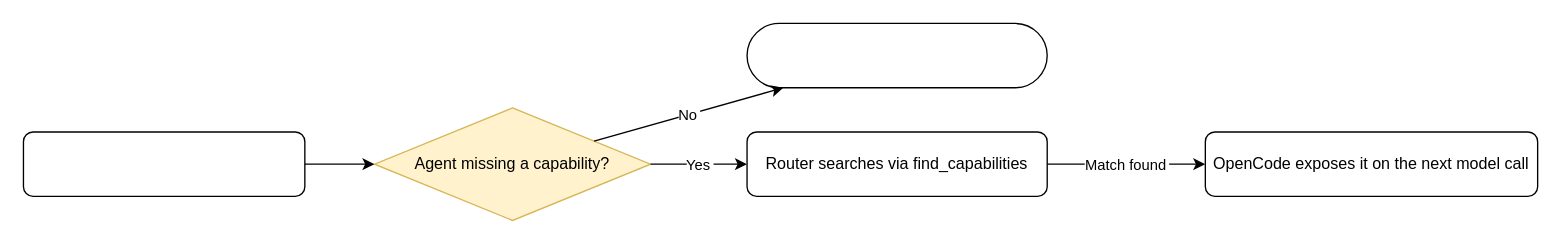
This 1561x244 diagram has some shape labels left out. The box of each missing label's shape, as (x1, y1, x2, y2) in pixels:
Agent reuses available capabilities: (746, 22, 1047, 88)
OpenCode builds the request context: (22, 131, 305, 196)
